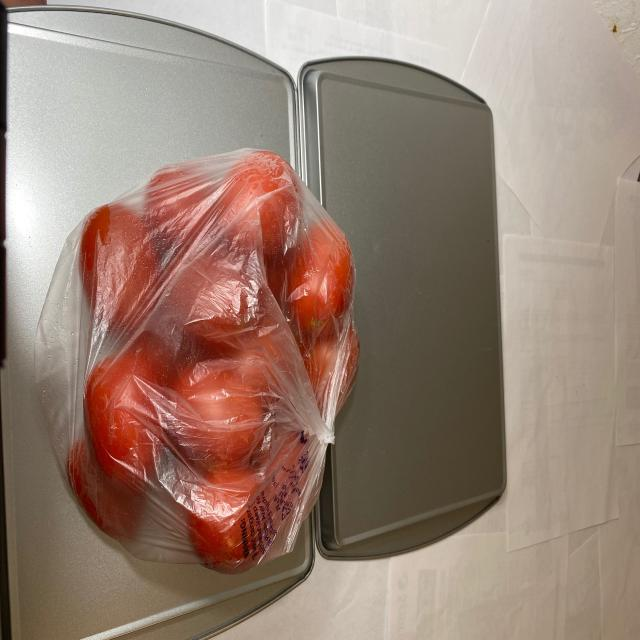tomato: (60, 152, 361, 575)
